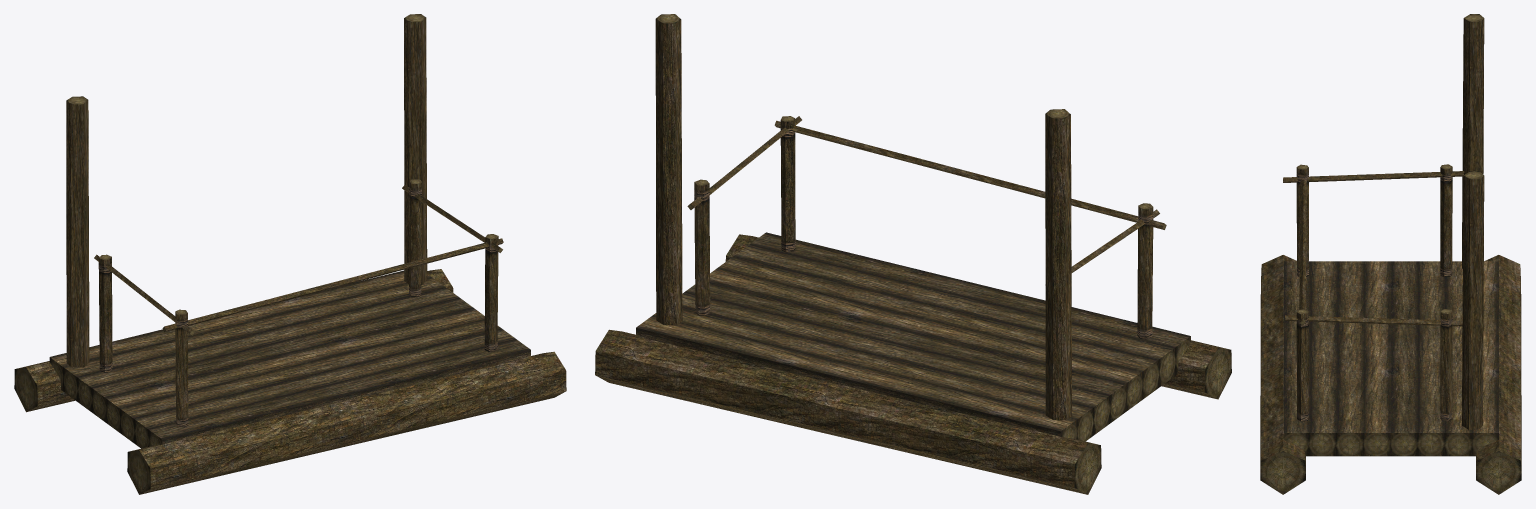
File: thm_endr_village_tree_viewpoint_s01_l0.fbx
The picture shows the model from 3 angles, left to right: view 1: azimuth 30°, elevation 25°; view 2: azimuth 150°, elevation 25°; view 3: azimuth 270°, elevation 25°; orthographic projection. The views are drawn at different scales.
Visible parts, largest first — view 1: mesh_node; view 2: mesh_node; view 3: mesh_node.
Boxes of the visible parts, bbox=[...] form: mesh_node: bbox=[14, 14, 566, 494]; mesh_node: bbox=[595, 14, 1231, 494]; mesh_node: bbox=[1260, 14, 1521, 494].
Size of the model in its own units: 4.04 by 2.93 by 2.31.
